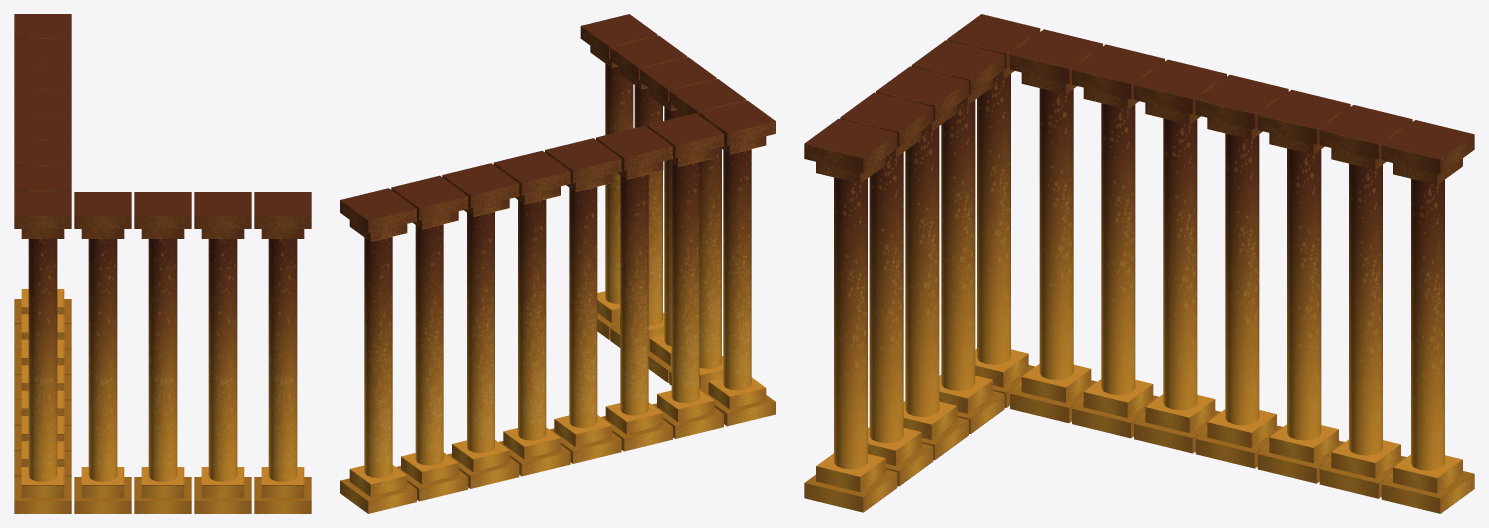
File: Elvis_Pillars_01.FBX
3 renders of one model, left to right at view 1: azimuth 30°, elevation 25°; view 2: azimuth 150°, elevation 25°; view 3: azimuth 270°, elevation 25°, orthographic. The views are drawn at different scales.
Visible parts, largest first — view 1: Pillar; view 2: Pillar; view 3: Pillar.
Part boxes in pixels (left/top/right/bottom): Pillar: left=14, top=14, right=311, bottom=513; Pillar: left=340, top=14, right=775, bottom=513; Pillar: left=804, top=14, right=1474, bottom=513.
Size of the model in its own units: 10.09 by 11.5 by 19.68.
